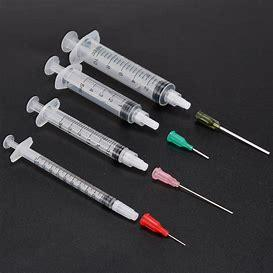Syringe: (65, 12, 253, 148), (4, 134, 188, 246)
